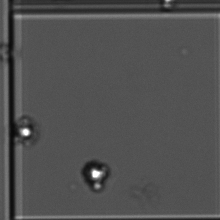Living Cell: (80, 160, 113, 197), (11, 117, 41, 151), (159, 1, 178, 19)
